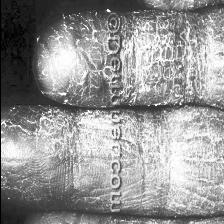Non-Cancerous Skin Condition: (136, 0, 224, 224), (38, 20, 105, 224), (0, 108, 44, 201)
